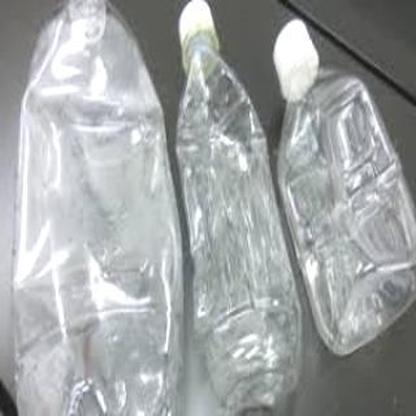plastic bottle: (15, 1, 187, 416), (177, 1, 298, 413), (273, 16, 416, 354)
